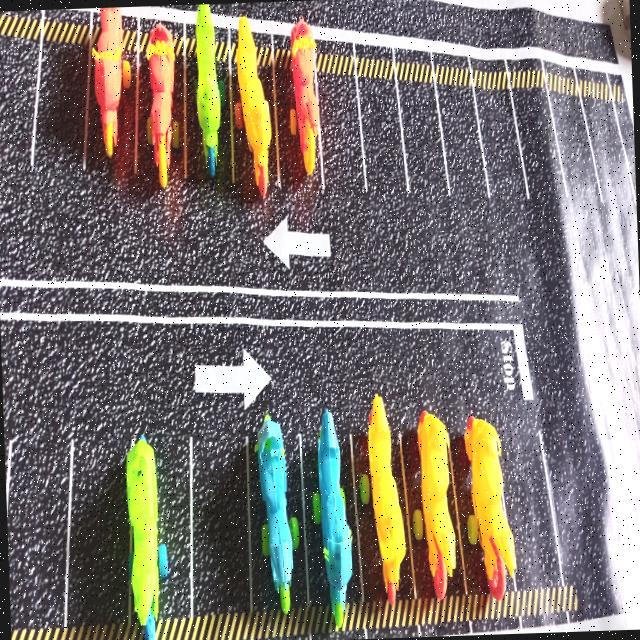occupied: (348, 403, 415, 600), (128, 440, 192, 640), (299, 414, 364, 605), (446, 423, 518, 595), (399, 419, 466, 596), (248, 426, 309, 614), (84, 10, 140, 175), (184, 20, 235, 179), (227, 29, 278, 181), (137, 17, 186, 175), (273, 59, 323, 183)
others: (620, 0, 630, 41)
slots: (494, 423, 567, 587), (10, 441, 73, 628), (65, 443, 128, 626), (190, 433, 253, 609), (32, 10, 90, 163), (356, 75, 410, 195), (315, 73, 367, 197), (511, 84, 568, 195), (473, 83, 528, 195), (0, 33, 45, 167), (436, 81, 490, 191), (583, 99, 636, 211), (547, 90, 602, 197), (396, 79, 448, 192)
